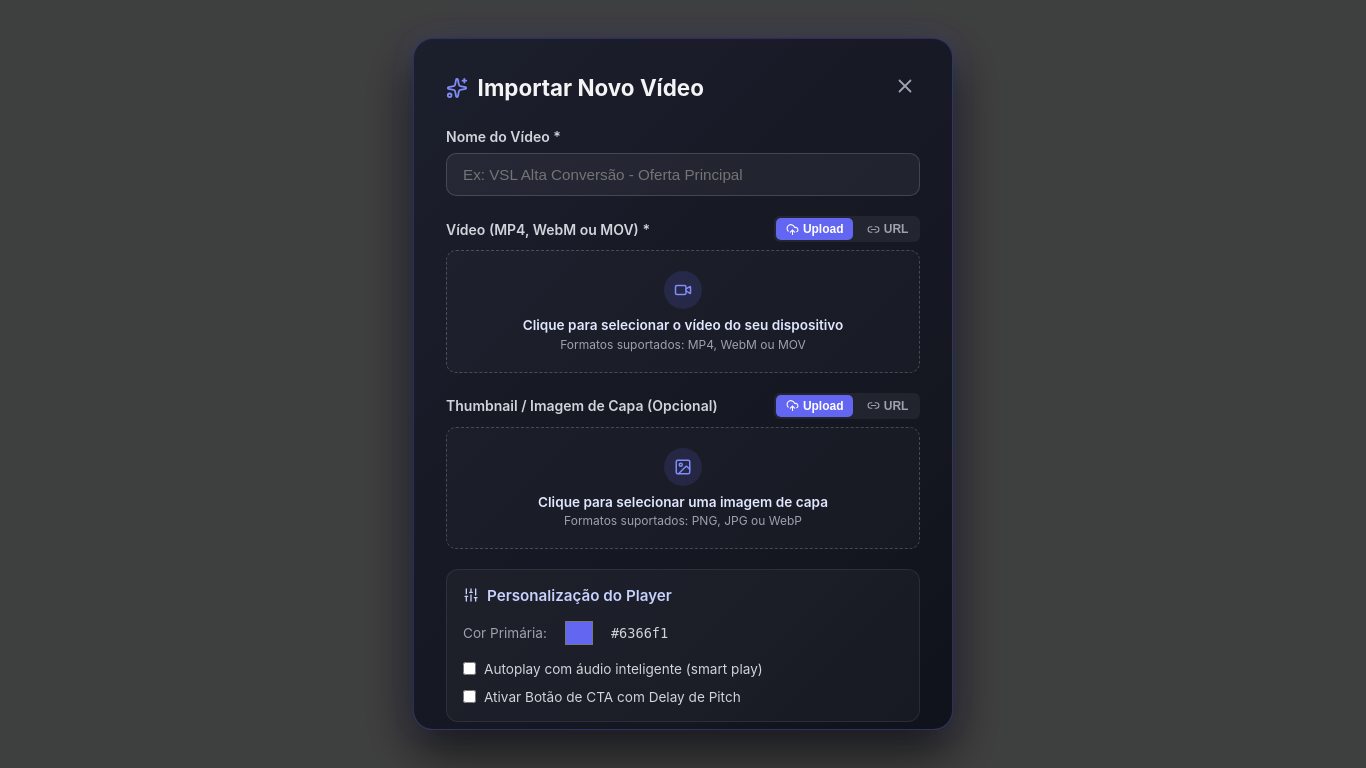
Test: Mecânicas de Vídeo - Frontend › UploadField permite alternar entre modo Upload e modo URL externa
This screenshot has width=1366, height=768.
Expected: the element with test id "video-upload-dropzone" is shown, [446, 250, 920, 373]
Expected: the element with test id "thumbnail-upload-dropzone" is shown, [446, 427, 920, 549]
Click the button with test id "video-upload-tab-url": [888, 229] box [857, 218, 918, 240]
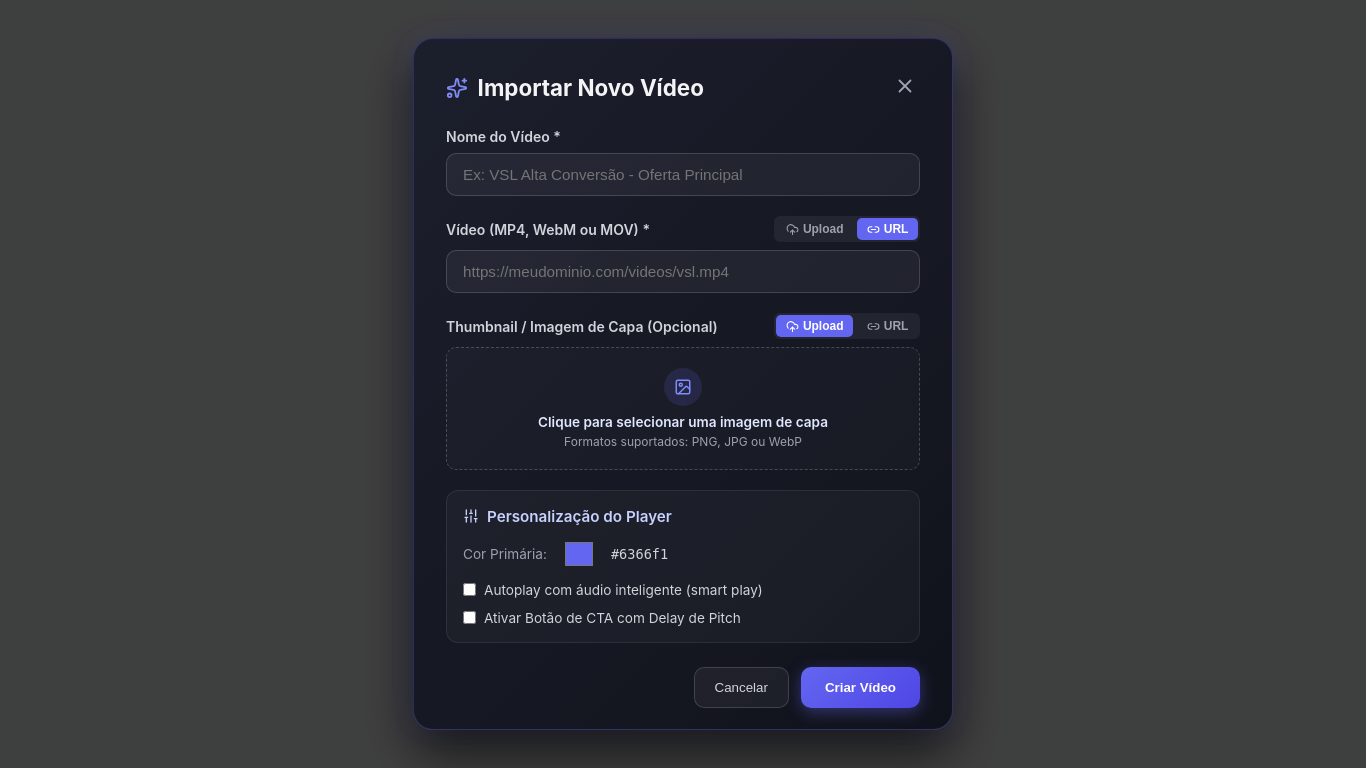
Now the field with test id "video-upload-input" is shown, box [446, 250, 920, 293]
